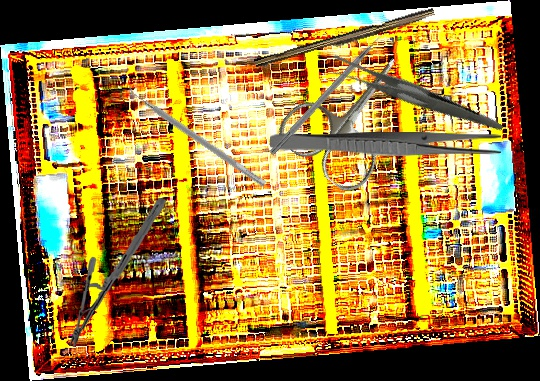Dressing Forceps: (325, 15, 504, 178), (270, 132, 501, 156)
Hook Surgical: (269, 27, 391, 157)
Iris Scissors: (271, 28, 436, 199)
Needle Holder: (67, 193, 167, 352)
Scalpel Handle: (254, 5, 436, 73)
Spatula Surgical: (124, 81, 271, 188)
